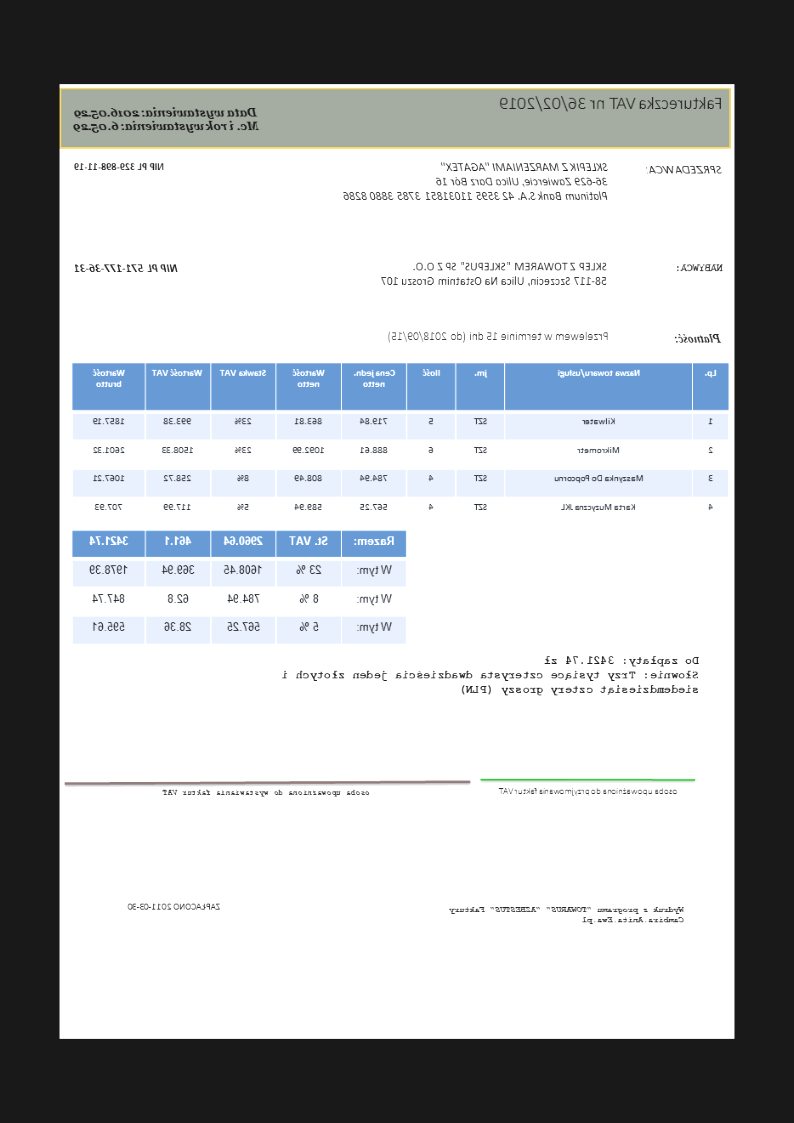Table: (72, 362, 731, 528), (72, 530, 407, 646)
TextBox: (277, 653, 702, 698), (341, 158, 612, 207), (379, 259, 610, 289), (71, 103, 263, 137), (445, 904, 688, 927), (497, 92, 726, 113), (386, 330, 611, 344), (161, 786, 372, 798), (497, 785, 681, 797), (74, 158, 168, 175), (73, 261, 180, 275), (644, 161, 726, 179), (125, 899, 223, 913), (675, 260, 726, 275), (673, 331, 723, 345)
